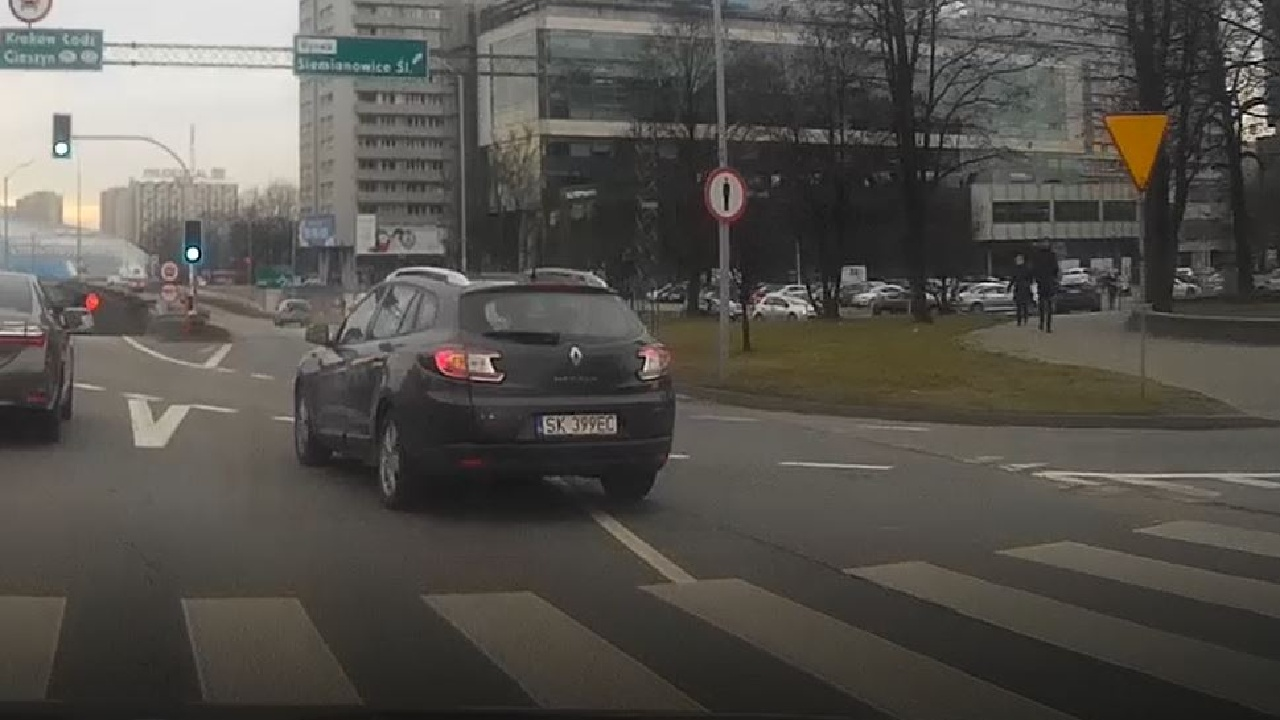A7: (1102, 102, 1172, 192)
B41: (701, 165, 753, 220)
